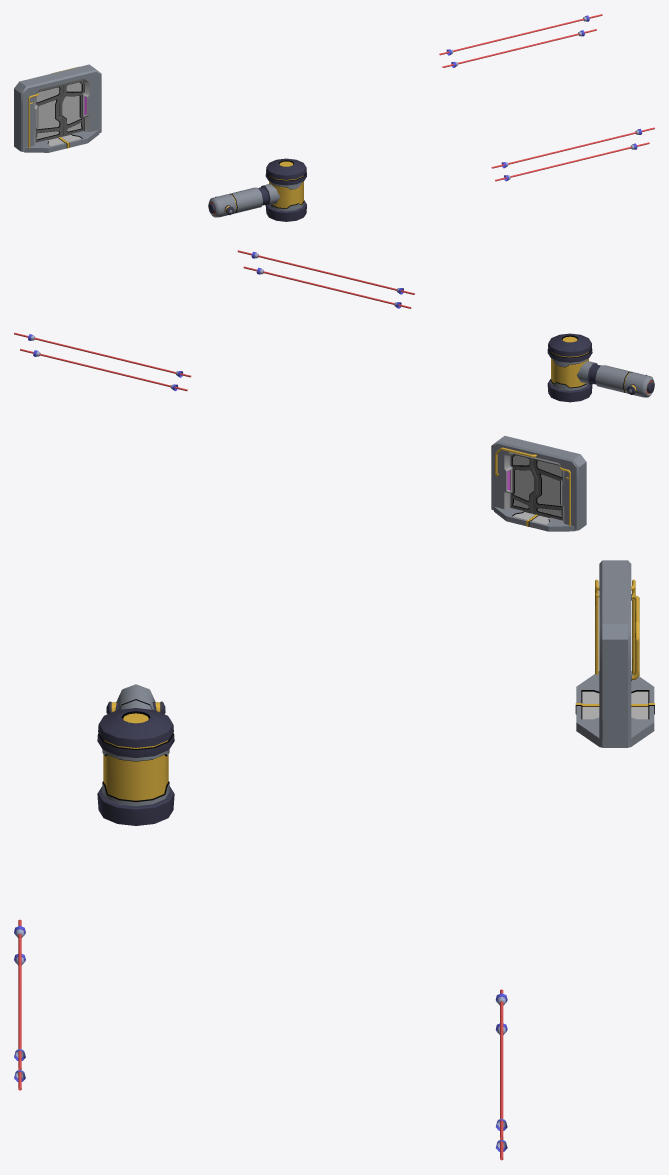
File: Level33_Objects.fbx
3 views of the same model, one above another, from view 1: azimuth 30°, elevation 25°; view 2: azimuth 150°, elevation 25°; view 3: azimuth 270°, elevation 25° (orthographic). The views are drawn at different scales.
Parts seen in each view (by area): view 1: Base, pCylinder13, Laser (×4), pCylinder14, Right, Left, Base5; view 2: Base, pCylinder13, pCylinder14, Right, Left, Base5, Laser (×2); view 3: pCylinder13, Base, Base5.
Part boxes in pixels (x1=…): Base: x1=14, y1=64, x2=101, y2=151; pCylinder13: x1=265, y1=158, x2=306, y2=221; Laser (×4): x1=439, y1=14, x2=654, y2=181; pCylinder14: x1=208, y1=184, x2=279, y2=217; Right: x1=35, y1=85, x2=63, y2=142; Left: x1=59, y1=81, x2=83, y2=136; Base5: x1=24, y1=130, x2=99, y2=152; Base: x1=491, y1=436, x2=586, y2=530; pCylinder13: x1=547, y1=333, x2=592, y2=402; pCylinder14: x1=576, y1=361, x2=654, y2=397; Right: x1=532, y1=458, x2=562, y2=520; Left: x1=510, y1=453, x2=537, y2=513; Base5: x1=494, y1=506, x2=575, y2=531; Laser (×2): x1=14, y1=250, x2=414, y2=377; pCylinder13: x1=97, y1=708, x2=174, y2=825; Base: x1=599, y1=560, x2=631, y2=747; Base5: x1=575, y1=671, x2=654, y2=747.
Size of the model in its own units: 374 by 44.01 by 201.
